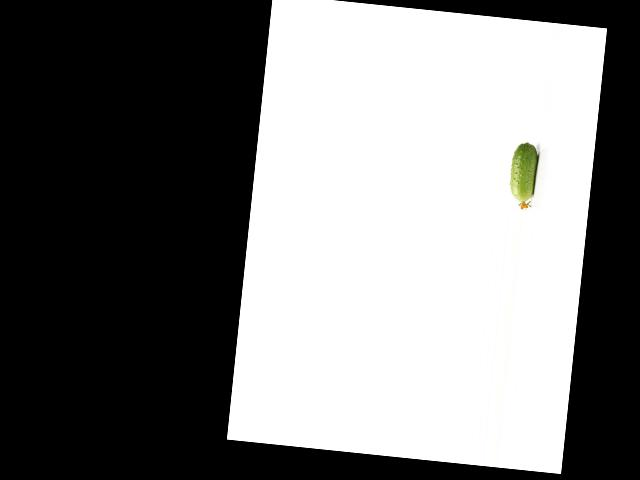cucumber: (507, 140, 540, 209)
